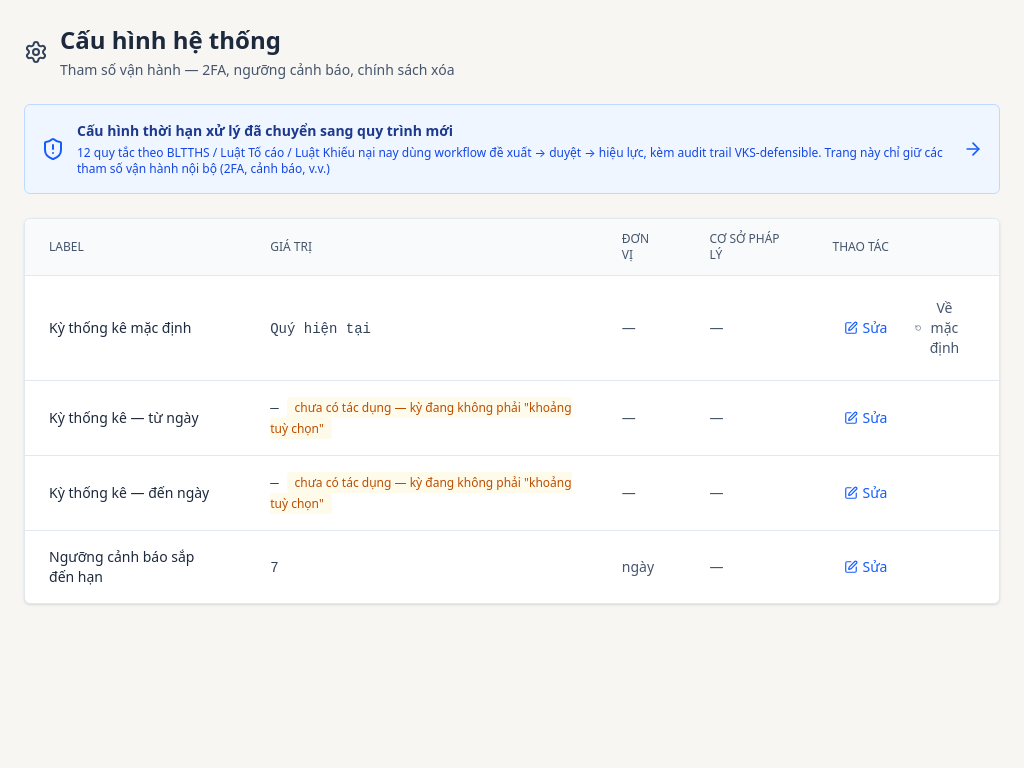
Test: SettingsPage — kỳ thống kê › khoá số vẫn là ô gõ chữ — không ép mọi khoá thành ô chọn
Click the button with test id "btn-edit-CANH_BAO_SAP_HAN" at (866, 567), box [832,551,900,583]
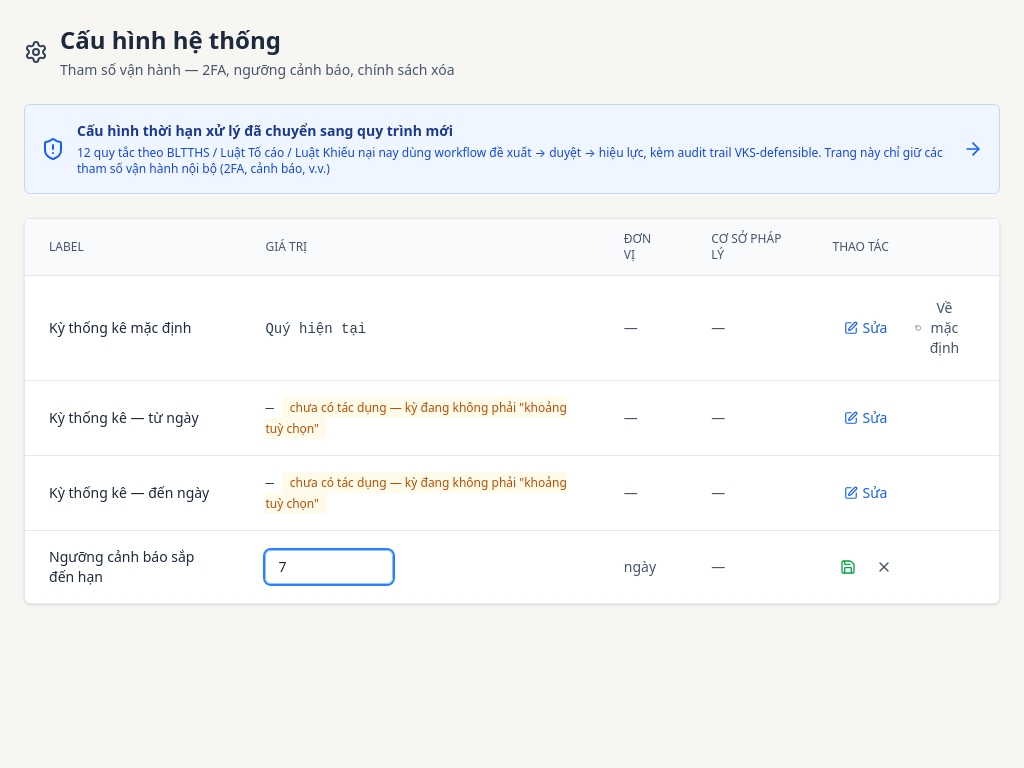
Expected: the field with test id "edit-input-CANH_BAO_SAP_HAN" is shown, [265,550,393,584]
